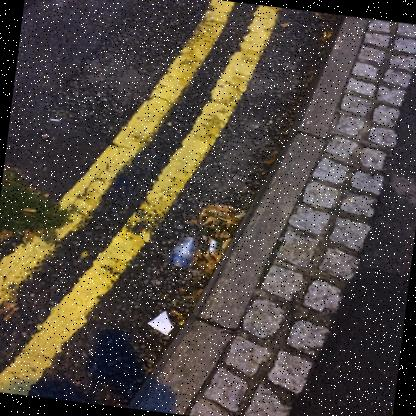Disposable plastic cup: (164, 237, 198, 267)
Normal paper: (147, 311, 173, 335)
Unlabeled litter: (209, 239, 223, 254)
